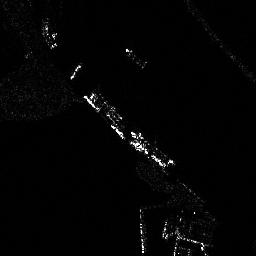ship: (124, 46, 148, 69)
